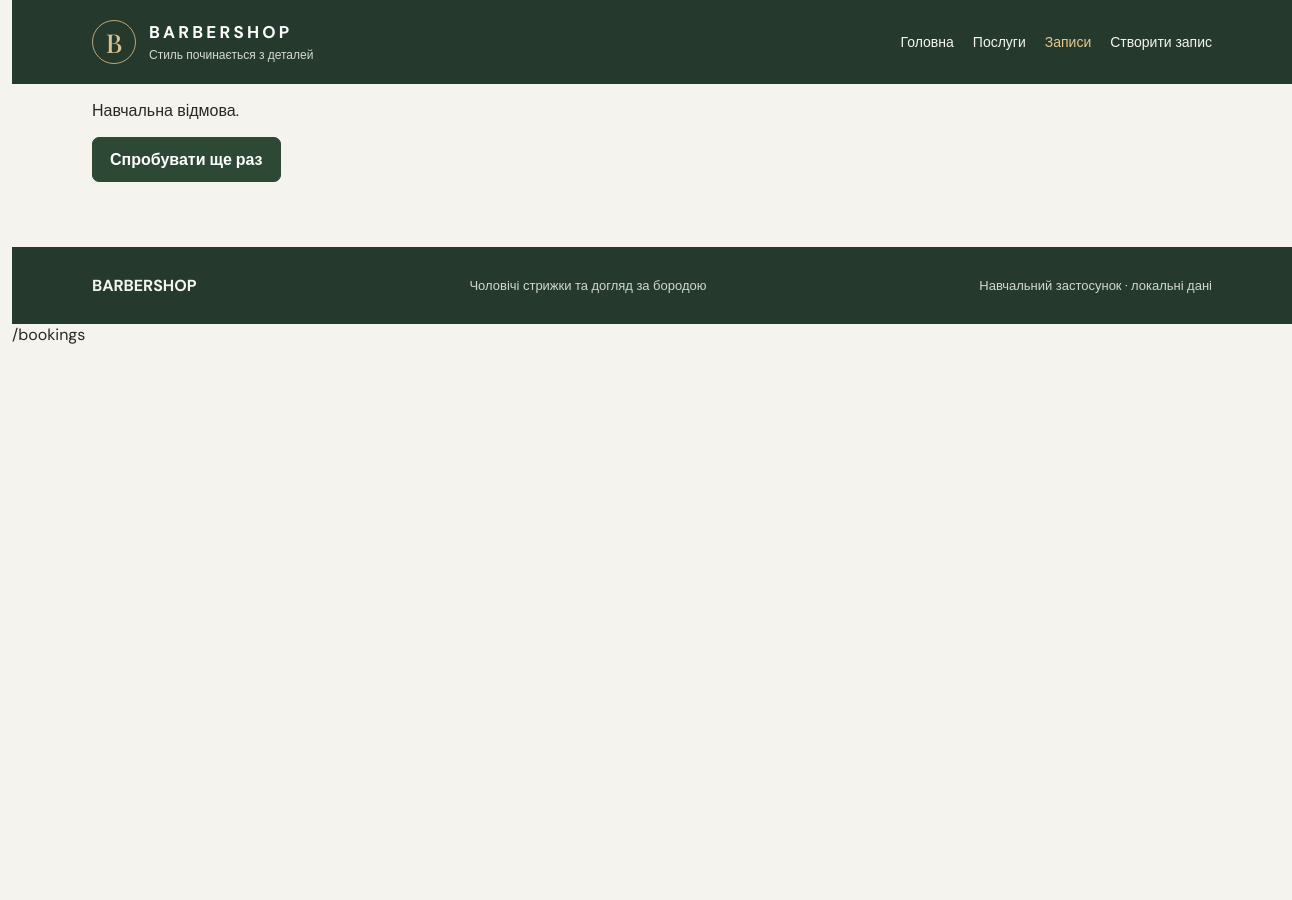
Scenario: відмова getAll і повтор відновлюють дані
This screenshot has width=1292, height=900.
Check: the message reads "Навчальна відмова.", box [92, 100, 239, 121]
Click the button "Спробувати ще раз" at (186, 160), box [92, 137, 281, 182]
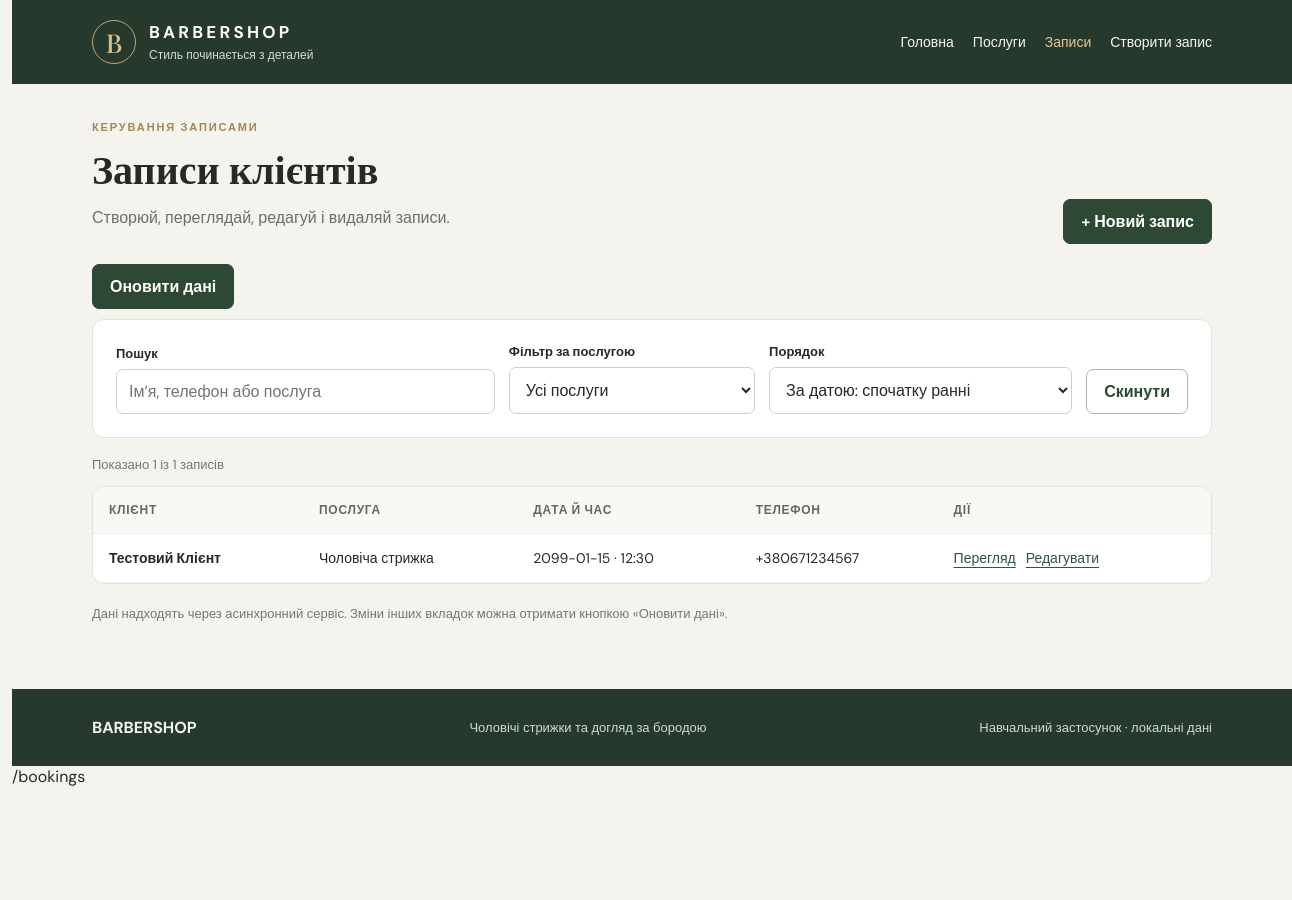
Check: the text "Тестовий Клієнт" is shown, box [109, 549, 221, 567]
